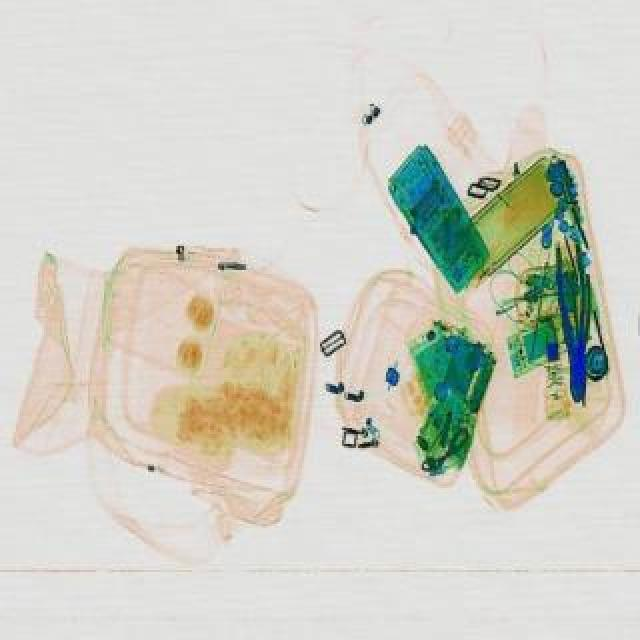wrench: (554, 244, 594, 404), (552, 274, 594, 402)
